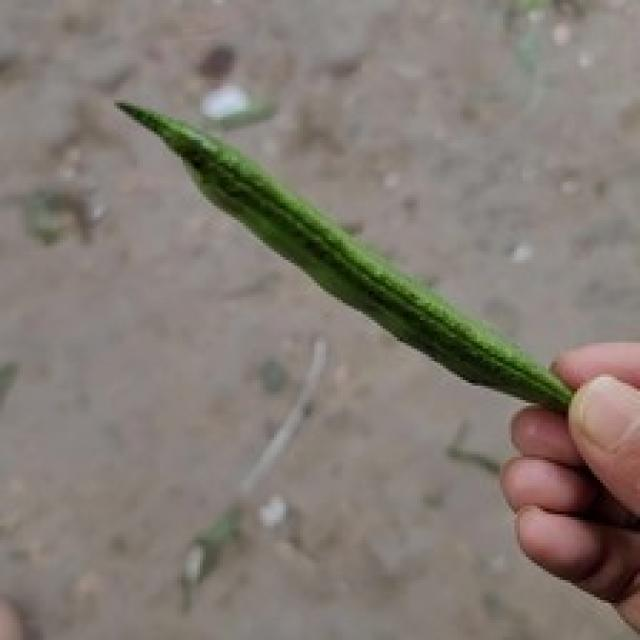Bean: (114, 97, 577, 414)
